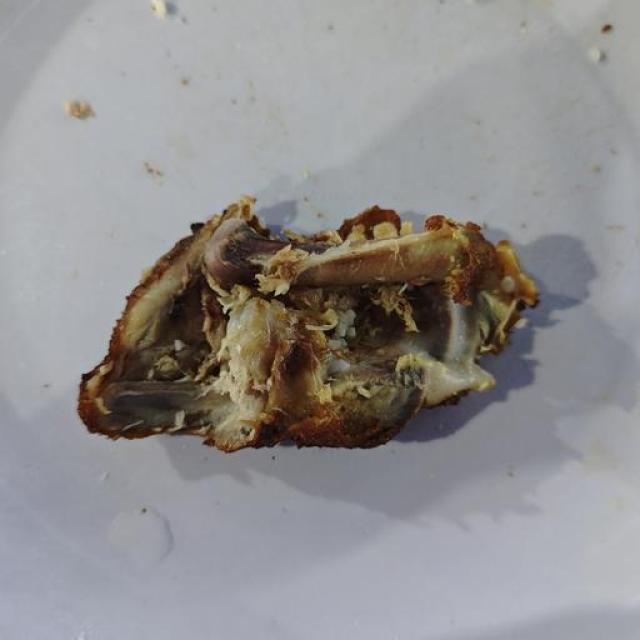organic: (79, 198, 537, 451)
